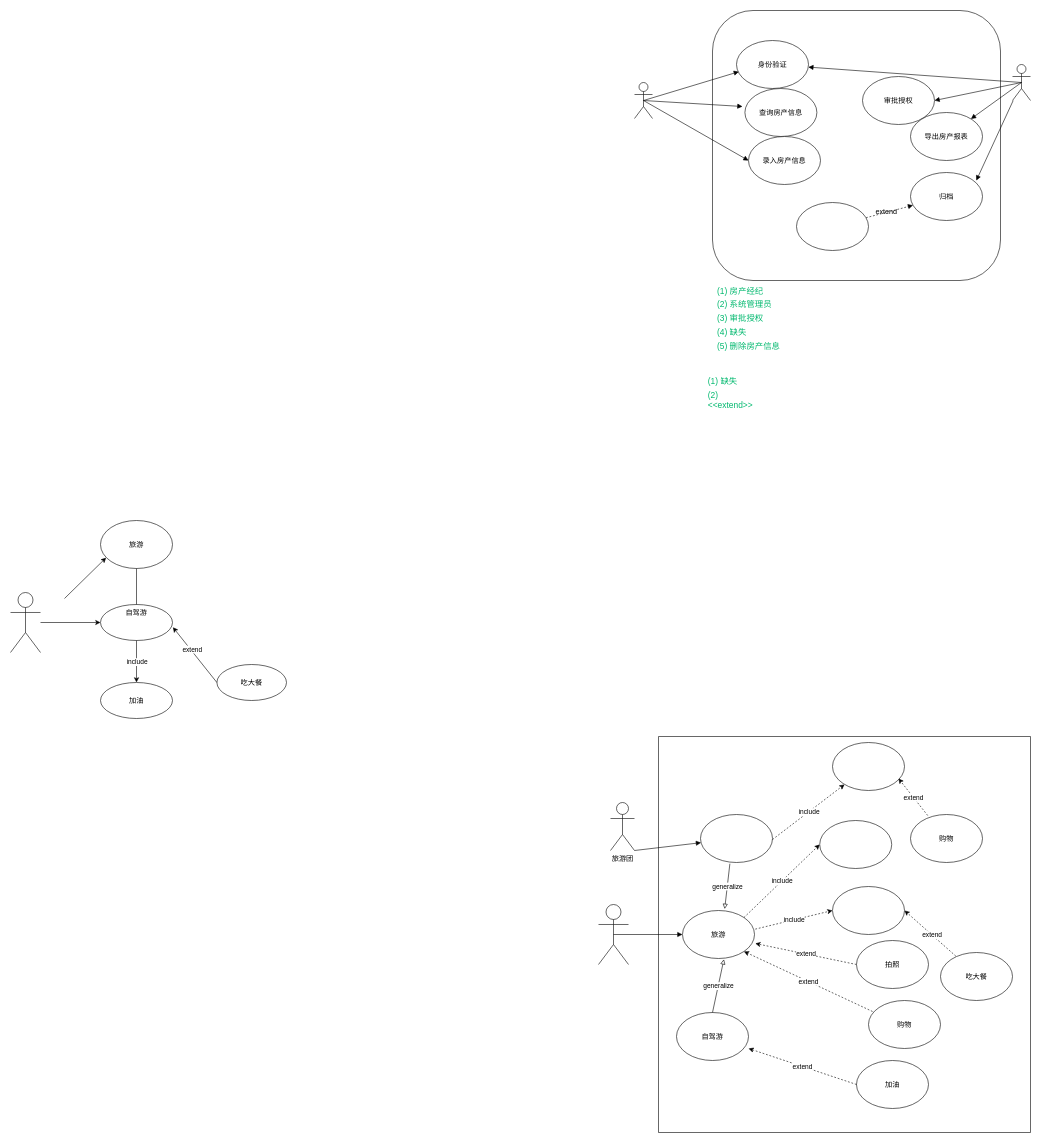
Image size: 1050x1144. Some labels were removed from this diagram. Each missing label, with the centre of its shape:
"Actor" goes at pixel 25 622.
"住宿" goes at pixel 855 844.
"删除房产信息" goes at pixel 832 226.
"参观购物景点" goes at pixel 868 766.
"吃饭" goes at pixel 868 910.
"房产管理员" goes at pixel 1021 82.
"房产经纪" goes at pixel 643 100.
"游客" goes at pixel 613 934.
"跟团游" goes at pixel 736 838.
